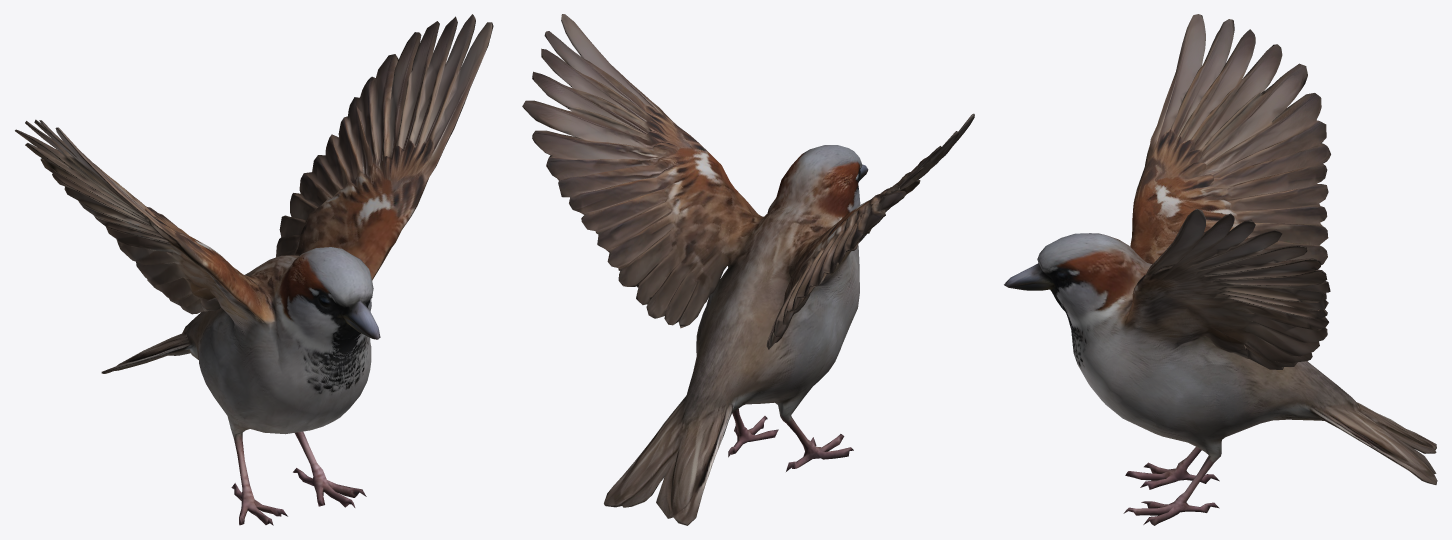
3 renders of one model, left to right at view 1: azimuth 30°, elevation 25°; view 2: azimuth 150°, elevation 25°; view 3: azimuth 270°, elevation 25°, orthographic. The views are drawn at different scales.
Visible parts, largest first — view 1: tripo_node_c1e2a906-0172-4603-b38f-3e30872ccdca; view 2: tripo_node_c1e2a906-0172-4603-b38f-3e30872ccdca; view 3: tripo_node_c1e2a906-0172-4603-b38f-3e30872ccdca.
Boxes of the visible parts, bbox=[...] form: tripo_node_c1e2a906-0172-4603-b38f-3e30872ccdca: bbox=[15, 14, 493, 525]; tripo_node_c1e2a906-0172-4603-b38f-3e30872ccdca: bbox=[522, 14, 974, 525]; tripo_node_c1e2a906-0172-4603-b38f-3e30872ccdca: bbox=[1004, 14, 1437, 525].
Size of the model in its own units: 1 by 0.9203 by 0.9334.
1 material, 1 textured.
